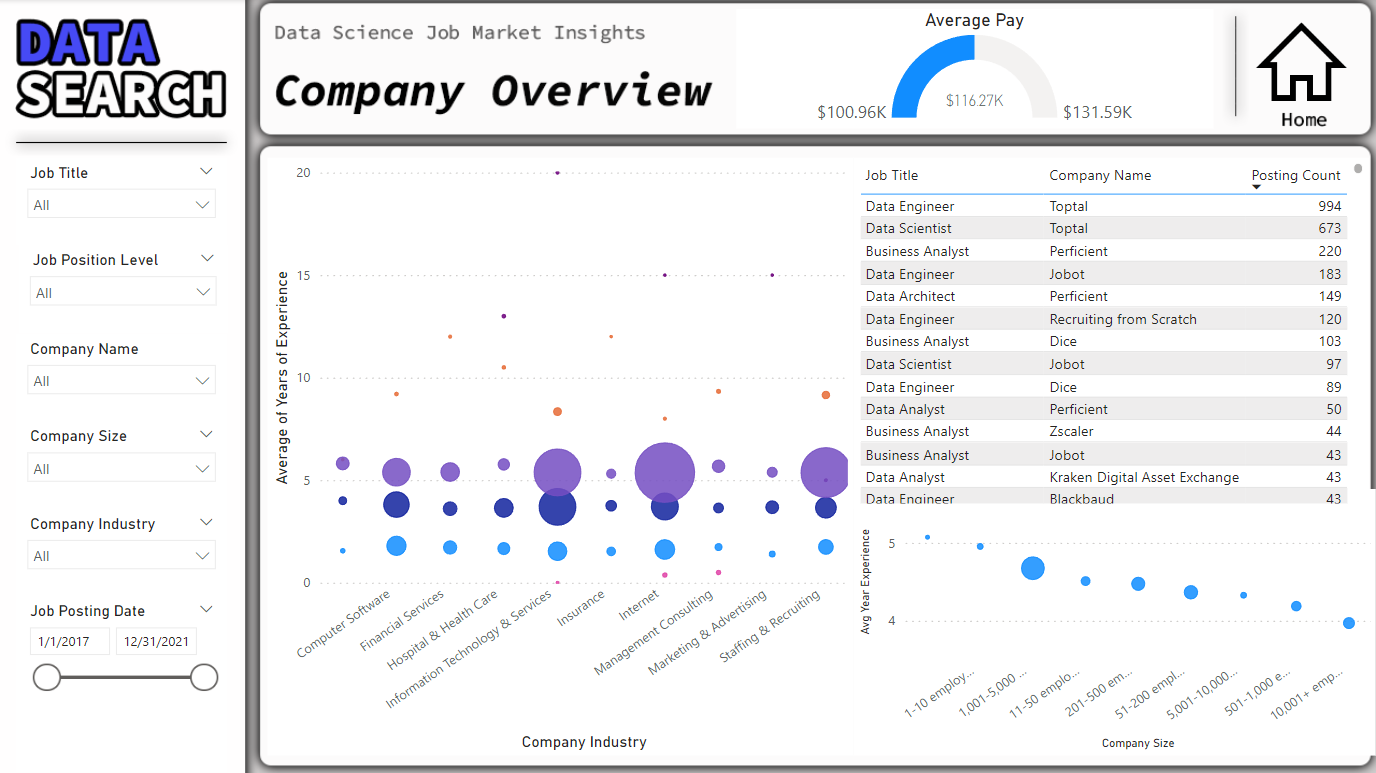

The page's visual inventory and layout, read from the dashboard file:
{"tool":"powerbi","page":{"name":"Company","canvas":[1280,720],"ordinal":9},"visuals":[{"type":"slicer","fields":{"Values":["Job Postings.Job Title"]},"box":[15.5,147.9,195.8,81.7],"z":0},{"type":"slicer","fields":{"Values":["Job Postings.Job Position Level"]},"box":[16.9,229.6,194.4,81.7],"z":1000},{"type":"slicer","fields":{"Values":["Job Postings.Company Name"]},"box":[15.5,311.3,195.8,81.7],"z":2000},{"type":"slicer","fields":{"Values":["Job Postings.Company Size"]},"box":[15.5,393,195.8,81.7],"z":3000},{"type":"slicer","fields":{"Values":["Job Postings.Company Industry"]},"box":[15.5,474.6,195.8,81.7],"z":4000},{"type":"slicer","fields":{"Values":["Job Postings.Job Posting Date"]},"box":[15.5,556.3,195.8,163.4],"z":5000},{"type":"scatterChart","fields":{"Y":["Avg(Job Postings.Years of Experience)"],"X":["Job Postings.Company Industry"],"Size":["_Measures.Posting Count"],"Series":["Job Postings.Job Position Level"]},"box":[249.3,147.9,545.1,556.3],"z":6000},{"type":"scatterChart","fields":{"Y":["Avg(Job Postings.Years of Experience)"],"X":["Job Postings.Company Size"],"Size":["_Measures.Posting Count"]},"box":[794.4,456.3,485.9,247.9],"z":7000},{"type":"tableEx","fields":{"Values":["Job Postings.Job Title","Job Postings.Company Name","_Measures.Posting Count"]},"box":[794.4,147.9,478.9,326.8],"z":8000},{"type":"gauge","title":"Average Pay","fields":{"Y":["_Measures.Average of Average Pay"],"MinValue":["Avg(Job Postings.Minimum Pay)"],"MaxValue":["Avg(Job Postings.Maximum Pay)"]},"box":[684.5,9.9,443.7,111.3],"z":9000},{"type":"image","box":[1154.9,11.3,111.3,94.4],"z":9001}]}

Visuals, with their boxes in screenshot pixels (x1, y1, x2, y2), scaled from the page's 1280x720 canvas onto the 1376x773 screenshot:
slicer - Job Postings.Job Title: (17,159,227,247)
slicer - Job Postings.Job Position Level: (18,247,227,334)
slicer - Job Postings.Company Name: (17,334,227,422)
slicer - Job Postings.Company Size: (17,422,227,510)
slicer - Job Postings.Company Industry: (17,510,227,597)
slicer - Job Postings.Job Posting Date: (17,597,227,772)
scatterChart - Avg(Job Postings.Years of Experience) x Job Postings.Company Industry: (268,159,854,756)
scatterChart - Avg(Job Postings.Years of Experience) x Job Postings.Company Size: (854,490,1375,756)
tableEx - Job Postings.Job Title x Job Postings.Company Name: (854,159,1369,510)
"Average Pay" gauge: (736,11,1213,130)
image: (1242,12,1361,113)
